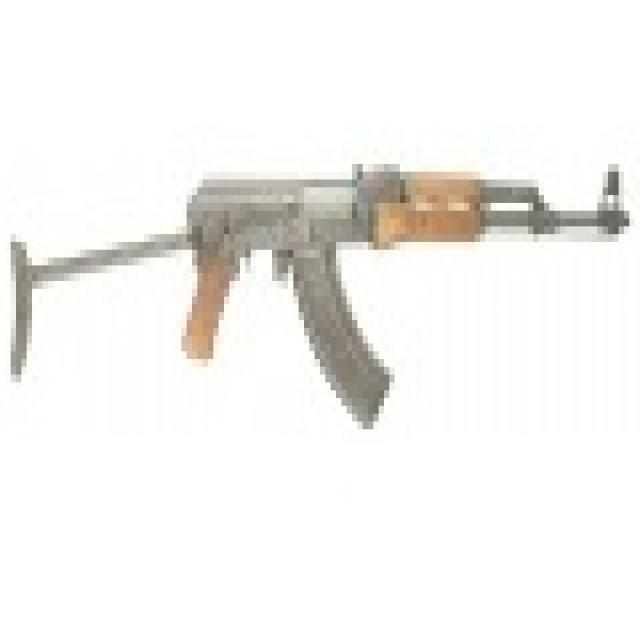Gun: (12, 132, 630, 396)
